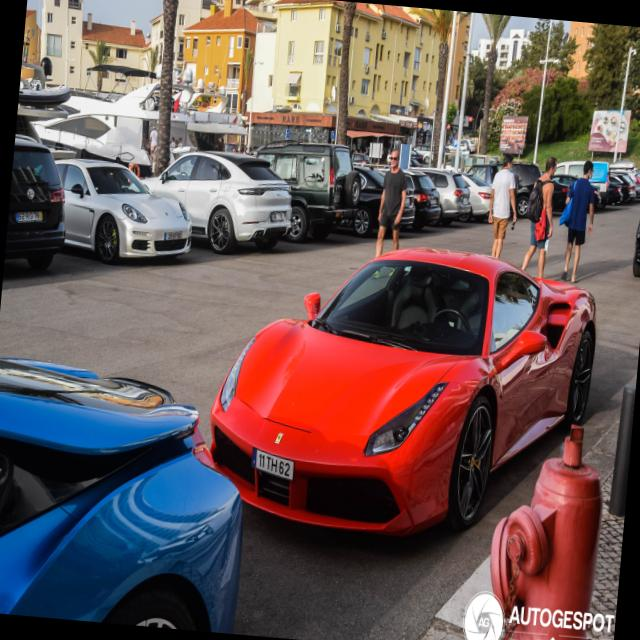portuguese-license-plates: (249, 445, 295, 482)
